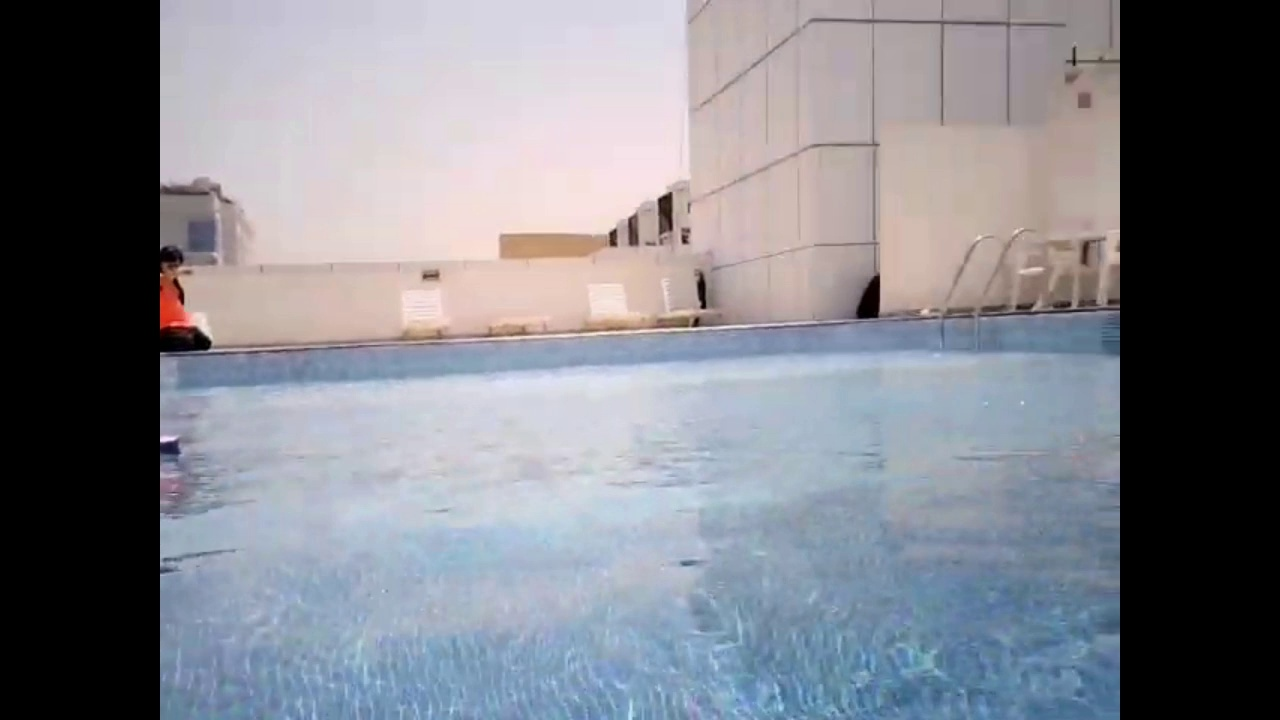debris: (161, 426, 182, 464)
